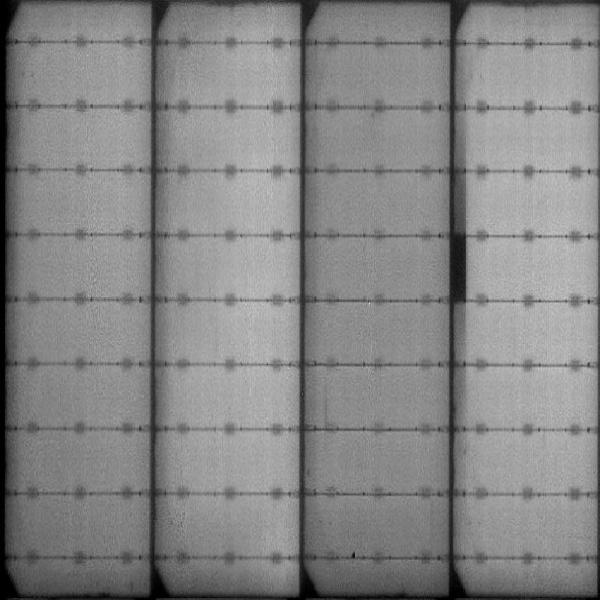black_border: (446, 232, 471, 304), (445, 170, 471, 232)
